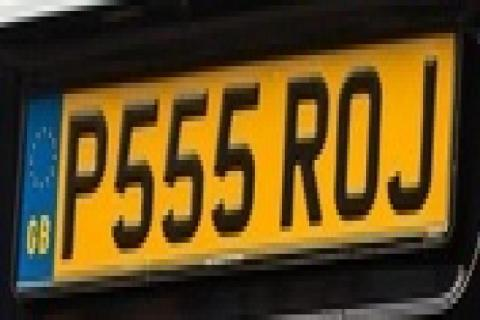LicensePlate: (8, 15, 464, 285)
